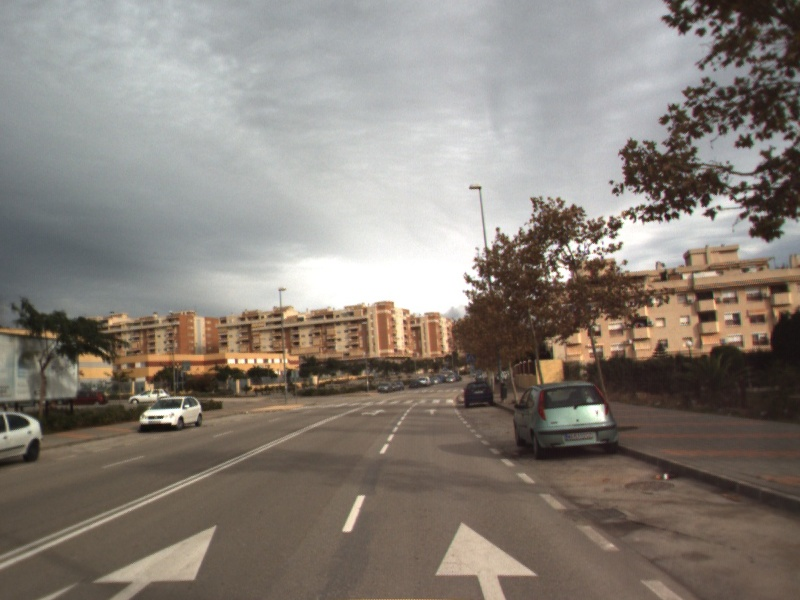STRAIGHT: (87, 522, 219, 600), (430, 517, 542, 600), (423, 407, 440, 416)
STRAIGHT_LEFT: (359, 407, 389, 417)
